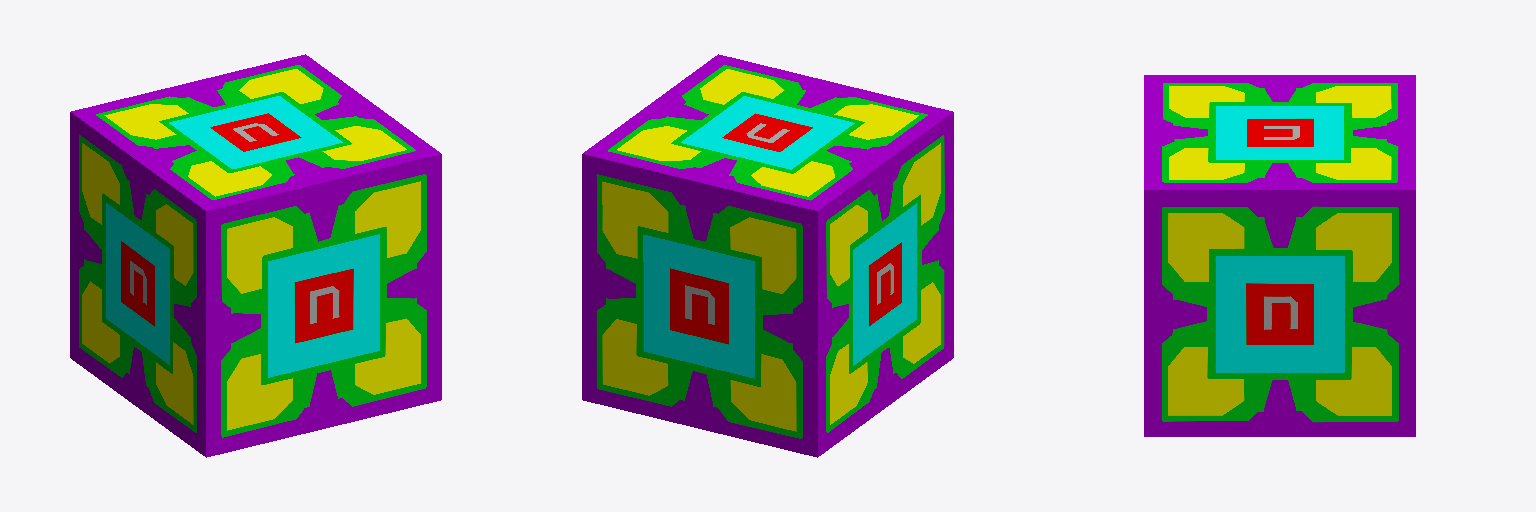
The picture shows the model from 3 angles: view 1: azimuth 30°, elevation 25°; view 2: azimuth 150°, elevation 25°; view 3: azimuth 270°, elevation 25°; orthographic projection.
Parts seen in each view (by area): view 1: pCube1; view 2: pCube1; view 3: pCube1.
Part boxes in pixels (bbox=[...]): pCube1: bbox=[70, 54, 441, 457]; pCube1: bbox=[582, 54, 953, 457]; pCube1: bbox=[1144, 75, 1415, 436].
Size of the model in its own units: 1 by 1 by 1.
1 materials, 1 textured.